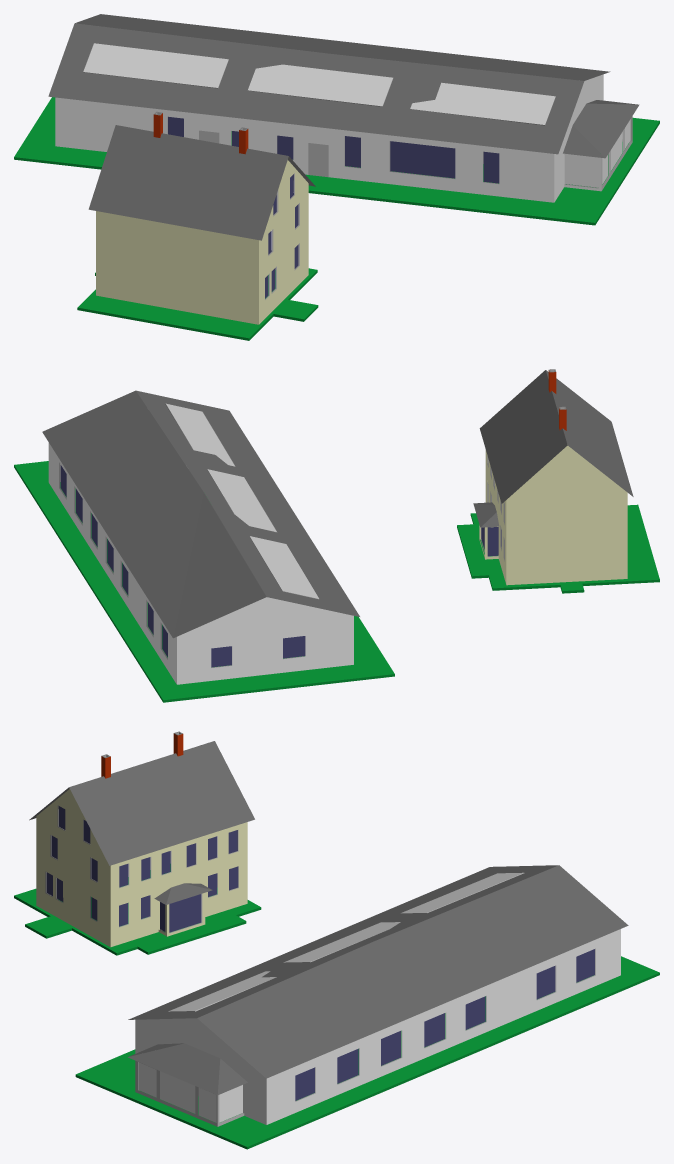
3 renders of one model, top to bottom at view 1: azimuth 30°, elevation 25°; view 2: azimuth 150°, elevation 25°; view 3: azimuth 270°, elevation 25°, orthographic. The views are drawn at different scales.
Visible parts, largest first — view 1: RoofMeshwithHoles#2, Wall, Foundation, Rack(Surround), RoofMeshwithHoles#1, Window, RoofMeshwithHoles#3, Foundation(Side0), Wall(Back), Door, Foundation(Side1); view 2: RoofMeshwithHoles#1, Wall, RoofMeshwithHoles#2, Foundation, Rack(Surround), Window, Foundation(Side2), Wall(Back), Foundation(Side3); view 3: RoofMeshwithHoles#1, Wall, Foundation, Window, RoofMeshwithHoles#2, Rack(Surround), RoofMeshwithHoles#3, Wall(Back), Foundation(Side2), Foundation(Side1).
Part boxes in pixels (left/top/right/bottom): RoofMeshwithHoles#2: left=48, top=23, right=604, bottom=240; Wall: left=55, top=74, right=632, bottom=324; Foundation: left=14, top=97, right=659, bottom=338; Rack(Surround): left=83, top=43, right=555, bottom=125; RoofMeshwithHoles#1: left=75, top=14, right=637, bottom=186; Window: left=168, top=116, right=630, bottom=298; RoofMeshwithHoles#3: left=573, top=103, right=639, bottom=157; Foundation(Side0): left=14, top=157, right=595, bottom=340; Wall(Back): left=156, top=112, right=630, bottom=299; Door: left=199, top=130, right=328, bottom=177; Foundation(Side1): left=77, top=121, right=659, bottom=340; RoofMeshwithHoles#1: left=42, top=370, right=567, bottom=638; Wall: left=48, top=370, right=627, bottom=684; RoofMeshwithHoles#2: left=136, top=370, right=633, bottom=616; Foundation: left=14, top=461, right=659, bottom=700; Rack(Surround): left=165, top=403, right=318, bottom=599; Window: left=60, top=465, right=501, bottom=667; Foundation(Side2): left=14, top=465, right=659, bottom=702; Wall(Back): left=59, top=370, right=564, bottom=667; Foundation(Side3): left=163, top=513, right=492, bottom=702; RoofMeshwithHoles#1: left=69, top=741, right=628, bottom=1094; Wall: left=36, top=733, right=620, bottom=1126; Foundation: left=14, top=864, right=659, bottom=1146; Window: left=46, top=806, right=594, bottom=1122; RoofMeshwithHoles#2: left=29, top=787, right=557, bottom=1056; Rack(Surround): left=168, top=872, right=524, bottom=1012; RoofMeshwithHoles#3: left=128, top=888, right=220, bottom=1095; Wall(Back): left=45, top=732, right=595, bottom=1123; Foundation(Side2): left=247, top=972, right=659, bottom=1149; Foundation(Side1): left=46, top=921, right=247, bottom=1149.
Bounding box in the file's own units: 512 × 130 × 470.
